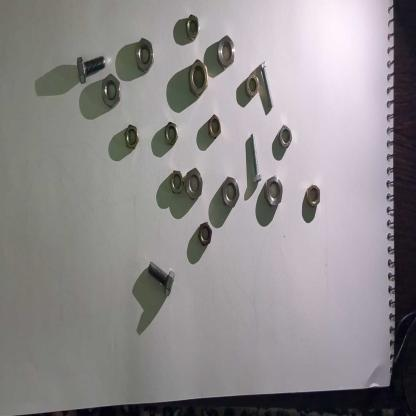Bolts: (148, 258, 176, 301), (256, 58, 276, 110), (76, 51, 107, 84), (246, 132, 263, 188)
NUTS: (99, 71, 122, 109), (186, 166, 206, 204), (217, 32, 236, 71), (134, 36, 154, 73), (187, 60, 208, 92), (264, 174, 283, 209), (222, 174, 239, 210), (169, 166, 186, 198), (124, 122, 140, 154), (304, 182, 322, 210), (204, 112, 223, 138), (276, 121, 293, 149), (164, 121, 179, 148), (186, 12, 200, 40), (245, 72, 259, 100), (199, 221, 212, 248)
